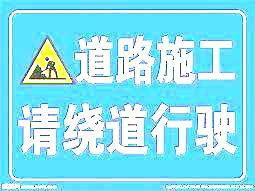sign: (3, 5, 248, 182)
